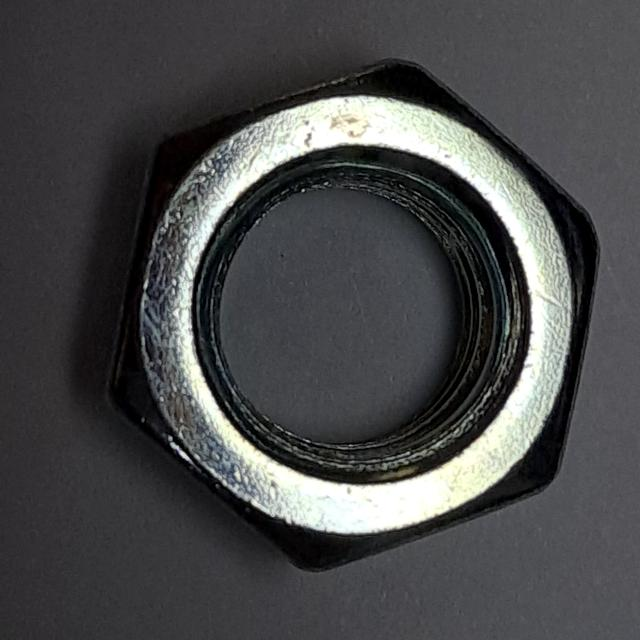Excellent: (91, 47, 611, 586)
